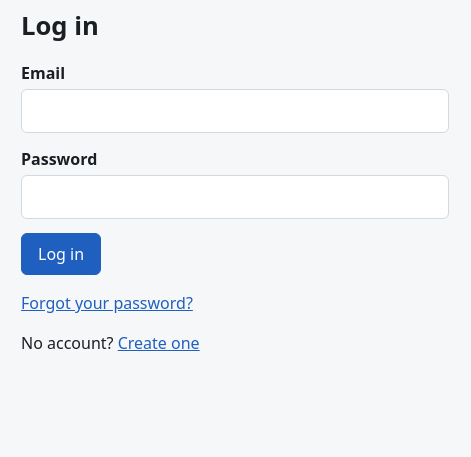
Test: login › explains account lockout / rate limiting with the retry time
Type "a@example.com" into the field labelled "Email" at (235, 111), box [21,89,449,133]
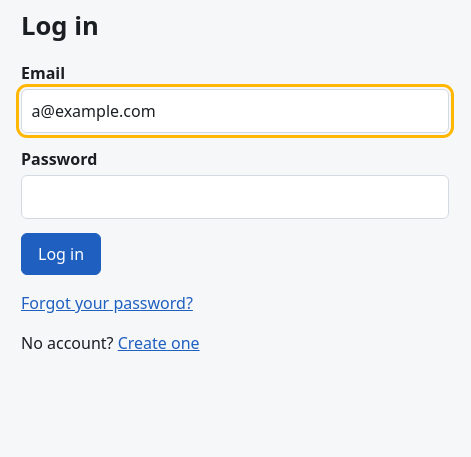
Type "whatever-pass-1" into the password field labelled "Password" at (235, 197), box [21,175,449,219]
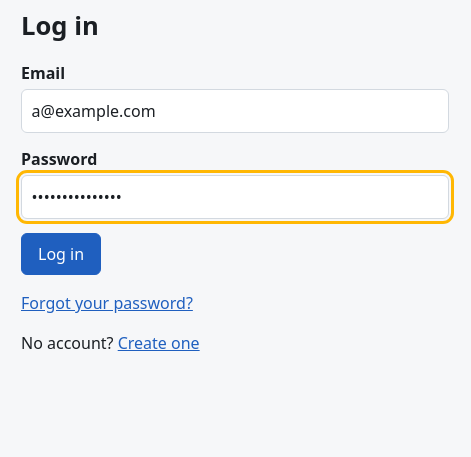
Click the button "Log in" at (61, 254), box [21,233,101,275]
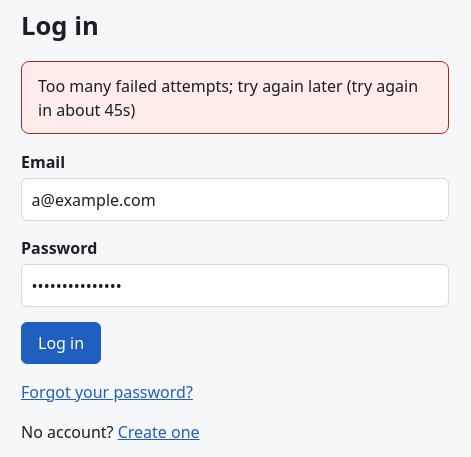
Expected: the message reads "Too many failed attempts; try again later (try again in about 45s)", [38,75,418,121]
